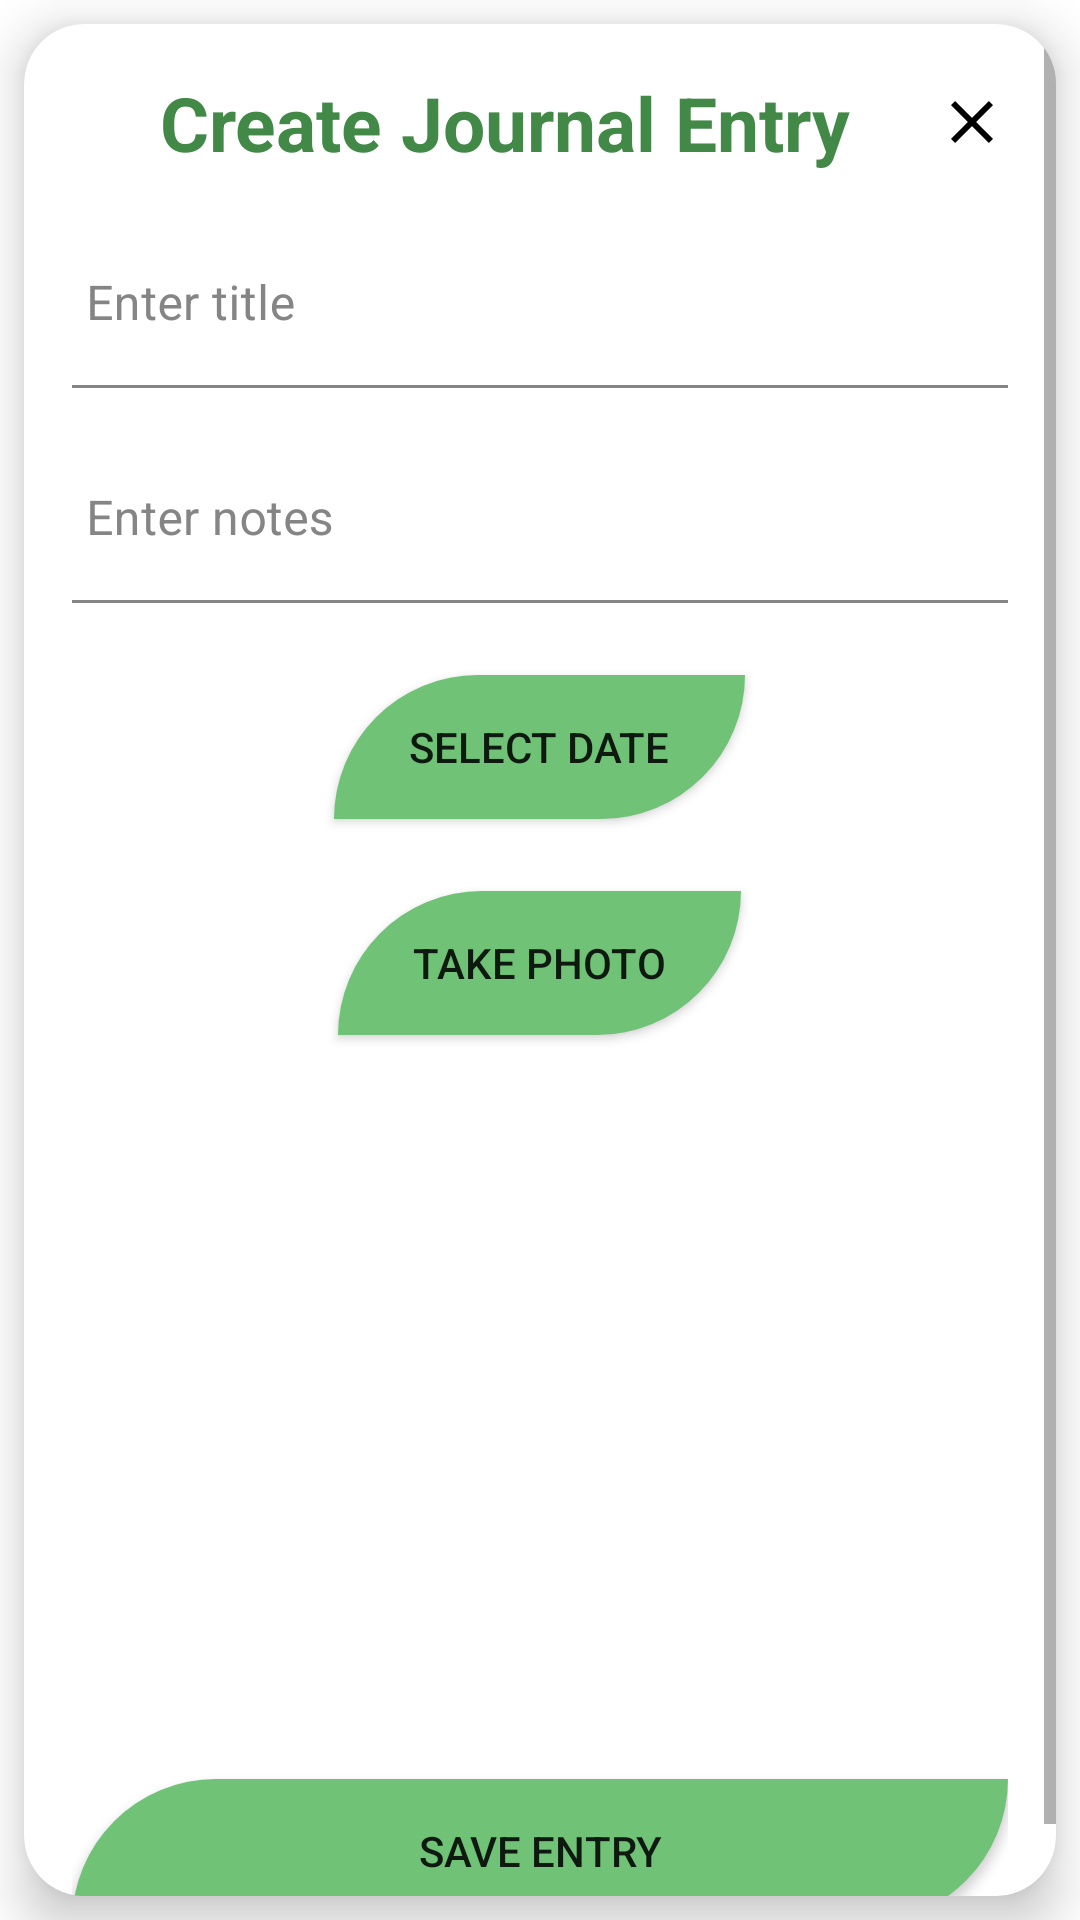

Screen size 1080px x 1920px. Icon name, then its box in pixels as (x1, y1, x2, y2):
exit: (951, 101, 993, 143)
